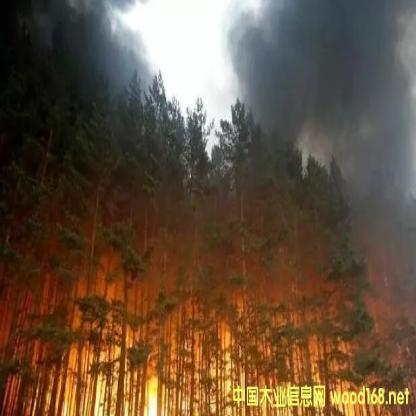fire: (17, 278, 402, 410)
smoke: (216, 1, 407, 148), (1, 4, 156, 120)
